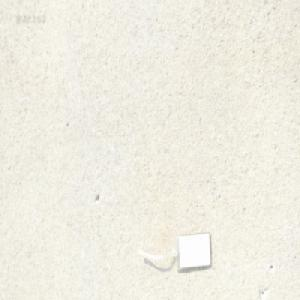LuggageTag: (132, 230, 209, 272)
